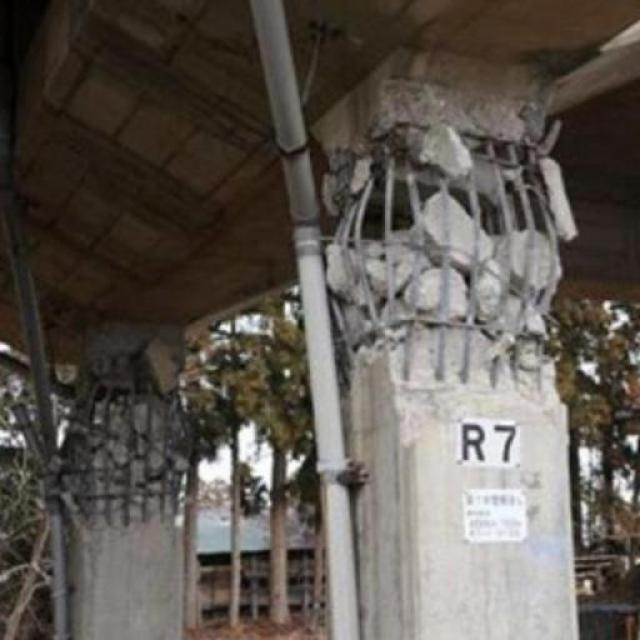D0w0: (325, 82, 576, 438), (64, 344, 184, 525)
